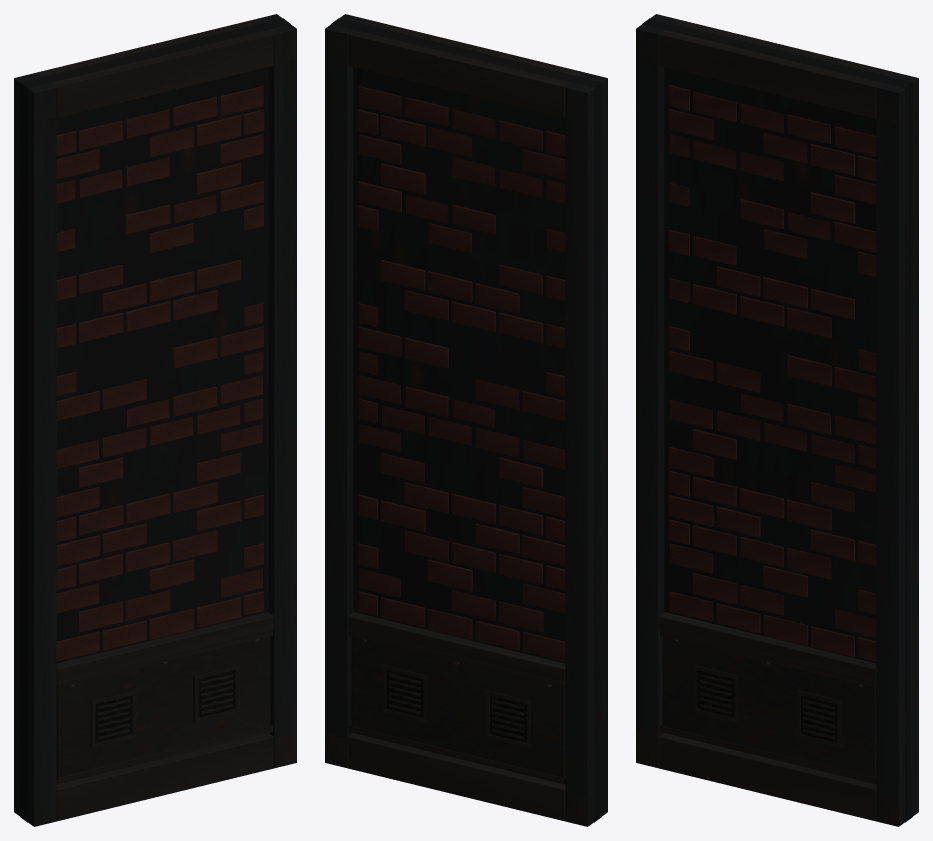
Rendered from STK_ENV_Street_Wall_1p2_A_Production_v11.glb.
3 views of the same model, side by side, from view 1: azimuth 30°, elevation 25°; view 2: azimuth 150°, elevation 25°; view 3: azimuth 330°, elevation 25° (orthographic).
Visible parts, largest first — view 1: WallCore, Frame_Left, Frame_Right, ServicePanel, Frame_Header, Frame_Footer, Profile_Left_Cap, Rear_Frame_Left, Brick_LowerTrim, ServicePanel_BottomLip, Profile_Top_Cap, ServicePanel_TopLip (+60 smaller); view 2: WallCore, Rear_Frame_Right, Rear_Frame_Left, Rear_ServicePanel, Profile_Left_Cap, Rear_Frame_Header, Rear_Frame_Footer, Frame_Left, Rear_Brick_LowerTrim, Rear_ServicePanel_BottomLip, Profile_Top_Cap, Rear_ServicePanel_TopLip (+61 smaller); view 3: WallCore, Frame_Left, Frame_Right, ServicePanel, Profile_Right_Cap, Frame_Header, Frame_Footer, Rear_Frame_Right, Brick_LowerTrim, ServicePanel_BottomLip, Profile_Top_Cap, ServicePanel_TopLip (+61 smaller).
Boxes of the visible parts, x1,y1,x2,y2 form: WallCore: (20, 18, 290, 822); Frame_Left: (28, 83, 56, 825); Frame_Right: (268, 24, 296, 767); ServicePanel: (56, 636, 270, 778); Frame_Header: (52, 30, 273, 118); Frame_Footer: (56, 733, 273, 820); Profile_Left_Cap: (14, 78, 34, 826); Rear_Frame_Left: (14, 73, 40, 814); Brick_LowerTrim: (56, 612, 273, 682); ServicePanel_BottomLip: (58, 725, 272, 784); Profile_Top_Cap: (15, 14, 296, 93); ServicePanel_TopLip: (58, 629, 272, 687); WallCore: (331, 18, 601, 822); Rear_Frame_Right: (325, 24, 353, 767); Rear_Frame_Left: (565, 83, 593, 825); Rear_ServicePanel: (351, 636, 565, 778); Profile_Left_Cap: (587, 78, 607, 826); Rear_Frame_Header: (348, 30, 569, 118); Rear_Frame_Footer: (348, 733, 565, 820); Frame_Left: (581, 73, 607, 814); Rear_Brick_LowerTrim: (348, 612, 565, 682); Rear_ServicePanel_BottomLip: (349, 725, 563, 784); Profile_Top_Cap: (325, 14, 607, 93); Rear_ServicePanel_TopLip: (349, 629, 563, 687); WallCore: (642, 18, 912, 822); Frame_Left: (636, 24, 664, 767); Frame_Right: (876, 83, 904, 825); ServicePanel: (662, 636, 876, 778); Profile_Right_Cap: (898, 78, 918, 826); Frame_Header: (659, 30, 880, 118); Frame_Footer: (659, 733, 876, 820); Rear_Frame_Right: (892, 73, 918, 814); Brick_LowerTrim: (659, 612, 876, 682); ServicePanel_BottomLip: (660, 725, 874, 784); Profile_Top_Cap: (636, 14, 918, 93); ServicePanel_TopLip: (660, 629, 874, 687).
Bounding box in the file's own units: 1.2 × 3.2 × 0.16.
9 materials, 9 textured.
